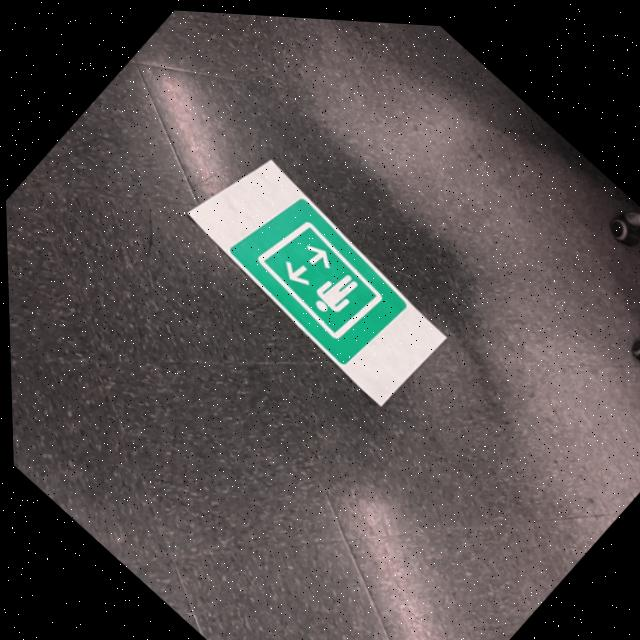elevator: (229, 199, 409, 369)
